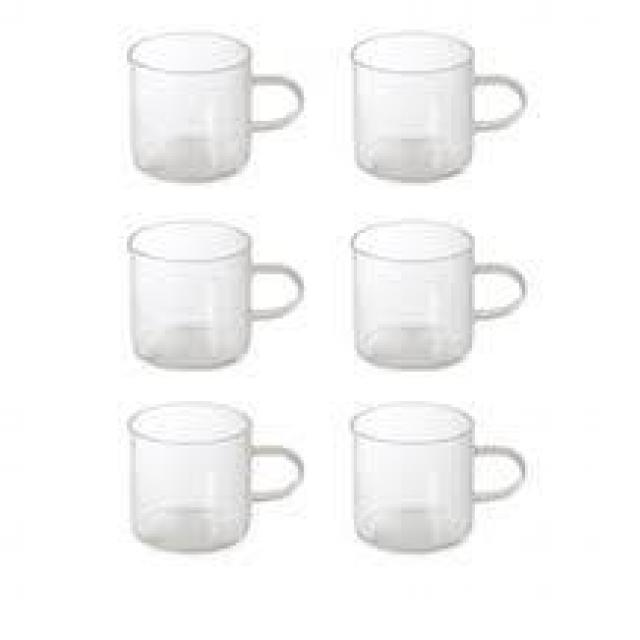non-organic waste: (112, 27, 310, 188)
